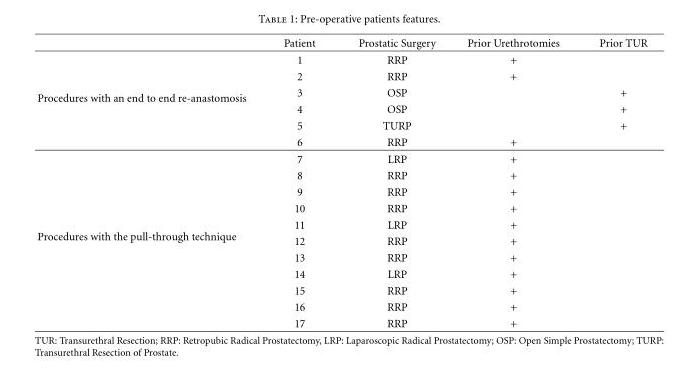table: (36, 36, 646, 329)
table column: (36, 36, 264, 329), (450, 36, 578, 329), (336, 36, 450, 329), (264, 36, 336, 329), (578, 36, 646, 329)
table column header: (36, 36, 646, 51)
table row: (36, 67, 646, 84), (36, 100, 646, 117), (36, 133, 646, 150), (36, 166, 646, 183), (36, 199, 646, 216), (36, 232, 646, 249), (36, 265, 646, 282), (36, 51, 646, 67), (36, 84, 646, 100), (36, 117, 646, 133), (36, 150, 646, 166), (36, 183, 646, 199), (36, 216, 646, 232), (36, 249, 646, 265), (36, 282, 646, 298), (36, 298, 646, 314), (36, 36, 646, 51), (36, 314, 646, 329)
table spanning cell: (36, 150, 264, 329), (36, 51, 264, 150)
